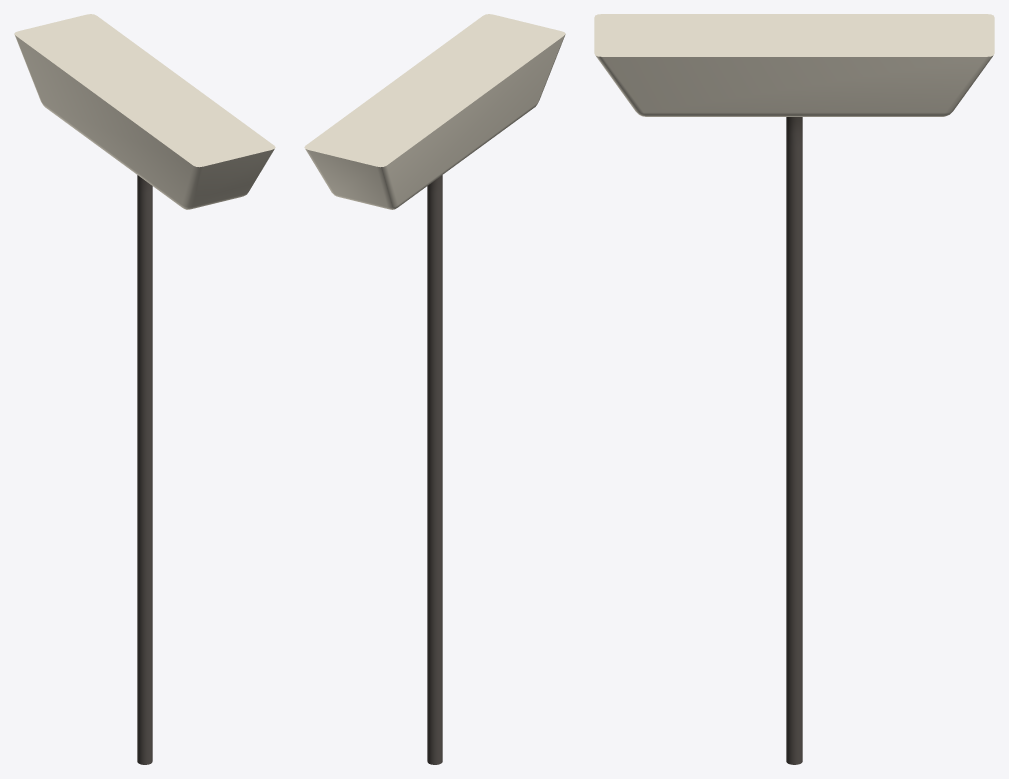
Rendered from bar_sign_5_c.glb.
3 views of the same model, side by side, from view 1: azimuth 30°, elevation 25°; view 2: azimuth 150°, elevation 25°; view 3: azimuth 270°, elevation 25° (orthographic). The views are drawn at different scales.
Visible parts, largest first — view 1: bar_sign_5; view 2: bar_sign_5; view 3: bar_sign_5.
Part boxes in pixels (x1=…): bar_sign_5: x1=14, y1=14, x2=275, y2=764; bar_sign_5: x1=304, y1=14, x2=565, y2=764; bar_sign_5: x1=594, y1=14, x2=994, y2=764.
Size of the model in its own units: 0.0921 by 0.726 by 0.3627.
1 material, 1 textured.
